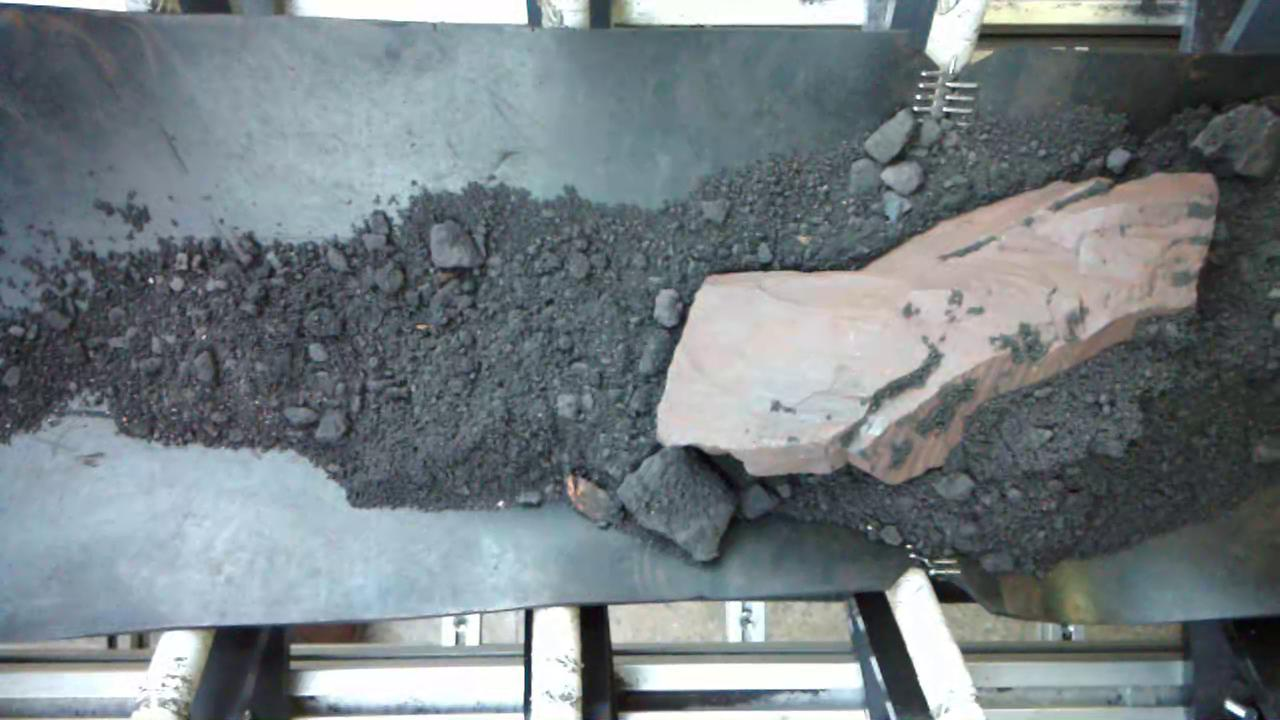conveyor: (7, 43, 1279, 600)
